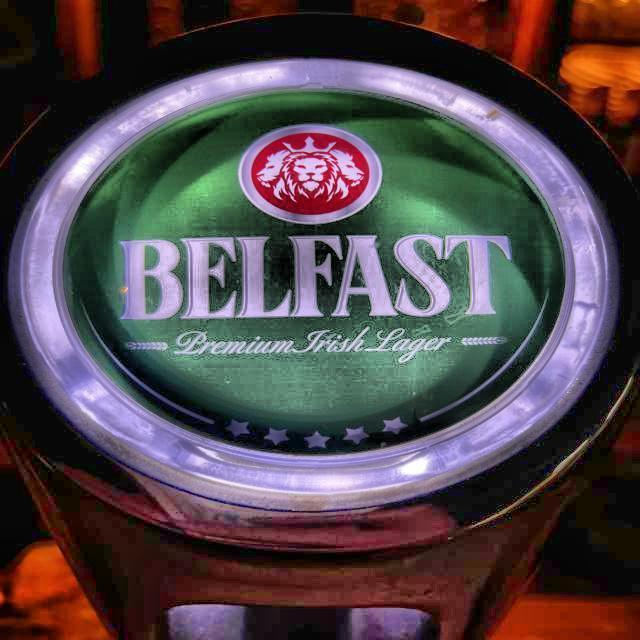metal: (9, 60, 622, 511)
